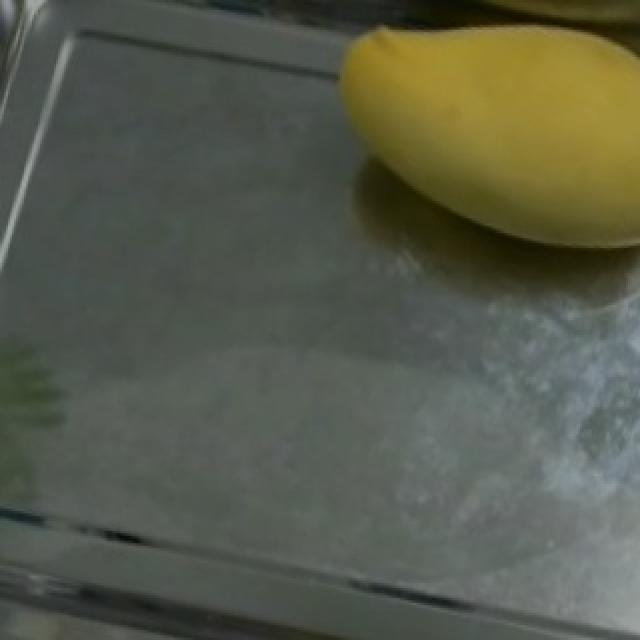fruit: (310, 0, 638, 285)
